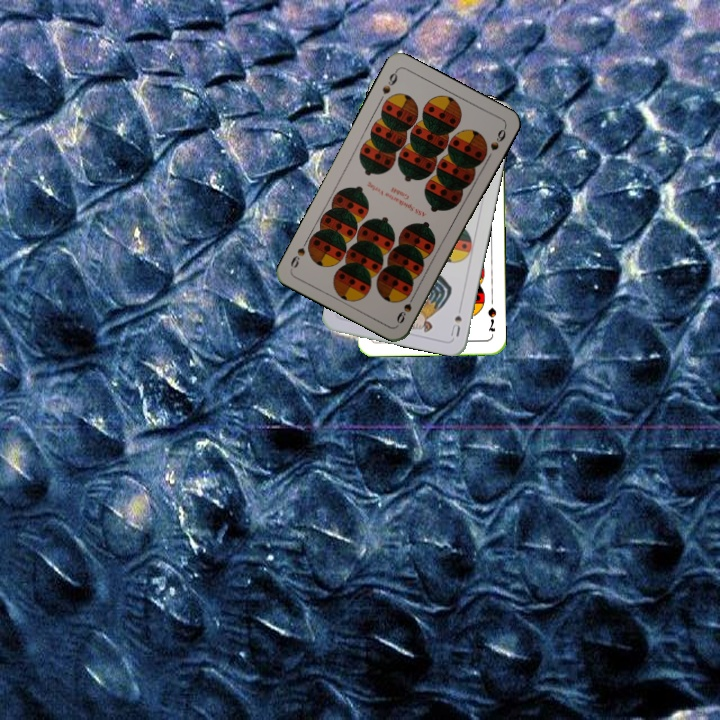S7: (484, 304, 499, 334)
S9: (392, 289, 418, 326), (378, 66, 400, 97)
SU: (446, 311, 465, 339)
